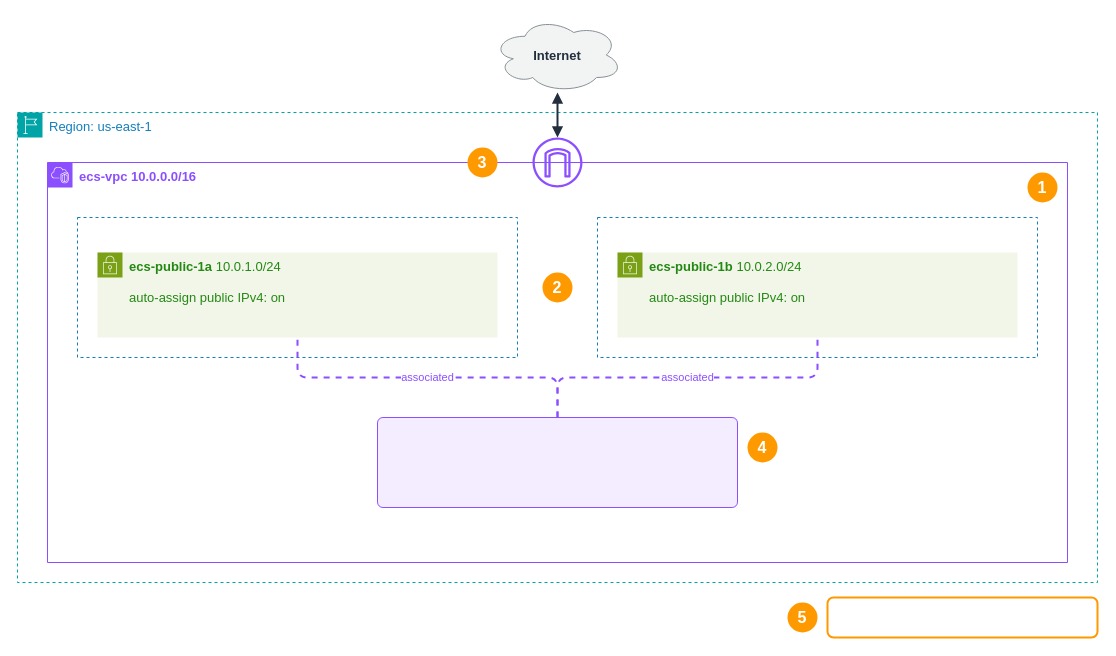
Image size: 1116x656. Some labels were removed from this diagram. Each missing label, with the box of its shape:
AZ us-east-1a: (76, 216, 518, 358)
AZ us-east-1b: (596, 216, 1038, 358)
Check: ecs-vpc → Resource map: (826, 596, 1098, 638)
ecs-igw (attached): (532, 137, 582, 187)
Route table: ecs-public-rt 10.0.0.0/16 → local 0.0.0.0/0 → ecs-igw: (376, 416, 738, 508)
